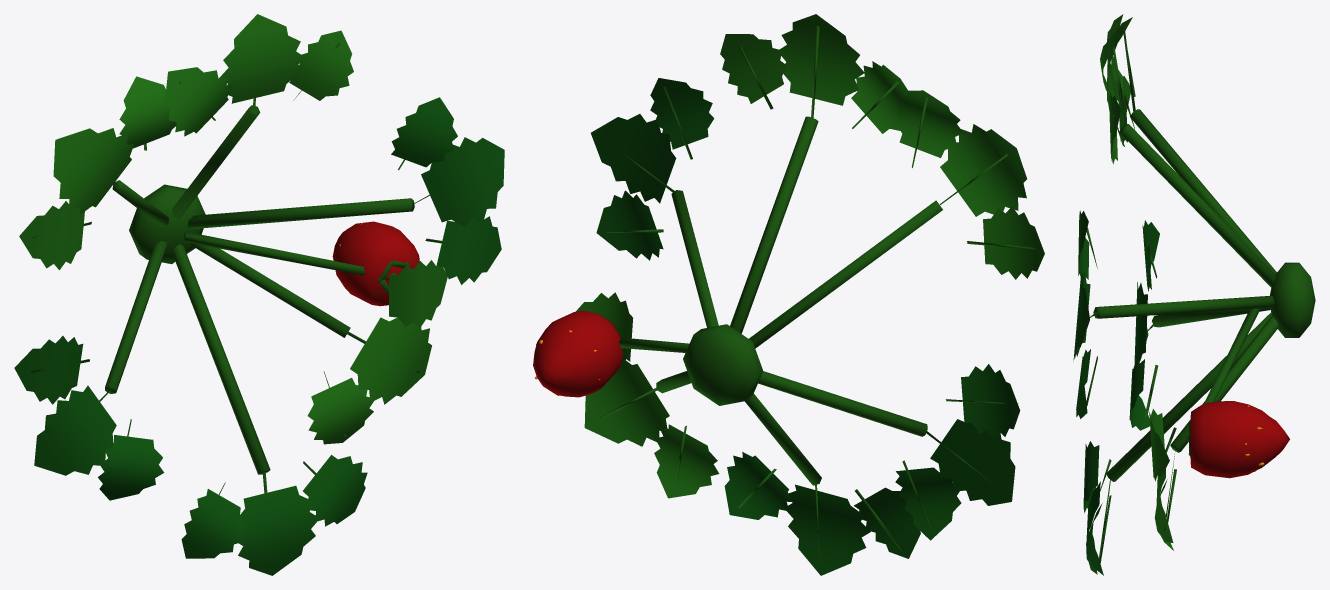
File: plant_variant_18.obj
3 renders of one model, left to right at view 1: azimuth 30°, elevation 25°; view 2: azimuth 150°, elevation 25°; view 3: azimuth 270°, elevation 25°, orthographic. The views are drawn at different scales.
Parts seen in each view (by area): view 1: field_export_plant_variant_18; view 2: field_export_plant_variant_18; view 3: field_export_plant_variant_18.
Boxes of the visible parts, box(x1,y1,x2,y2) form: field_export_plant_variant_18: box(14, 14, 504, 575); field_export_plant_variant_18: box(533, 14, 1044, 575); field_export_plant_variant_18: box(1073, 14, 1315, 575).
Bounding box in the file's own units: 0.5591 × 0.64 × 0.2593.
